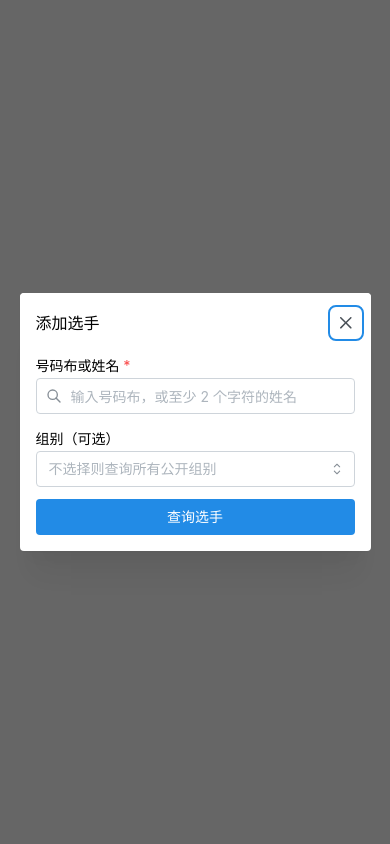
Scenario: add runner modal regression (mocked requests only) › shows empty results and handles lookup failure without confirming
Type "58" into the field labelled "号码布或姓名 *" at {"x": 195, "y": 396}, box [36,378,354,414]
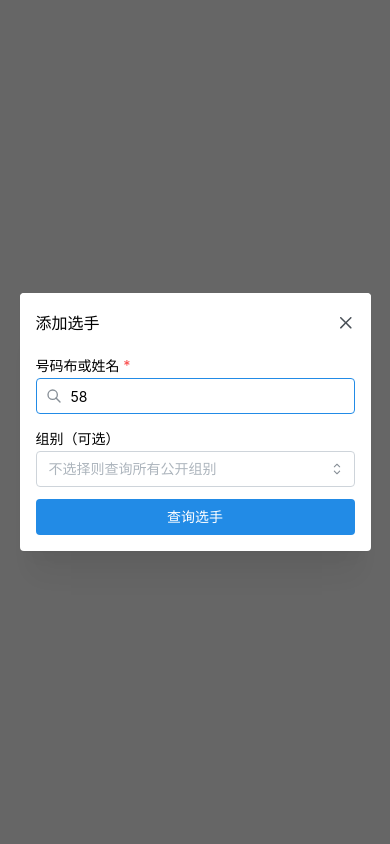
Click the button "查询选手" at {"x": 195, "y": 517}, box [36,499,354,535]
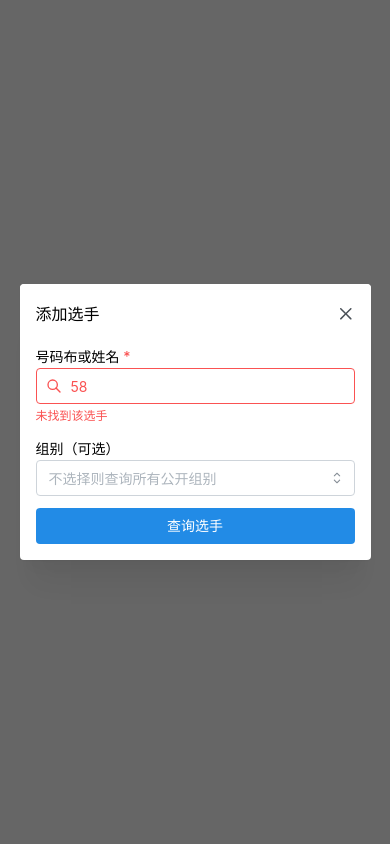
Result: the text "未找到该选手" is shown at [36,408,108,423]
Click the button "查询选手" at {"x": 195, "y": 526}, box [36,508,354,544]
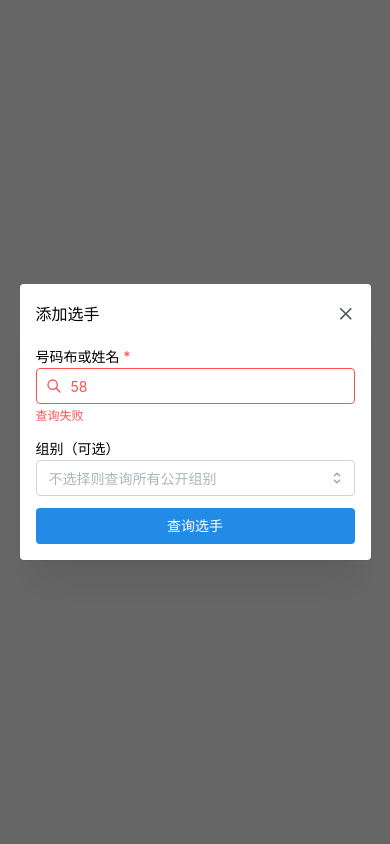
Result: the text "查询失败" is shown at [36,408,84,423]
